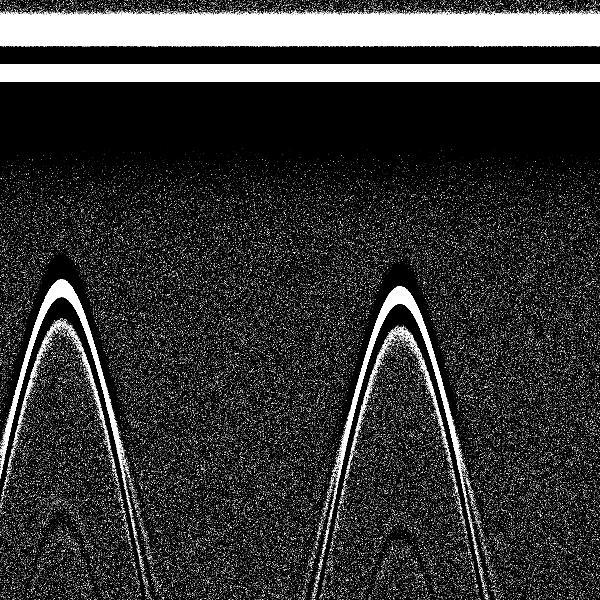pipe: (14, 3, 114, 358), (352, 8, 448, 368)
